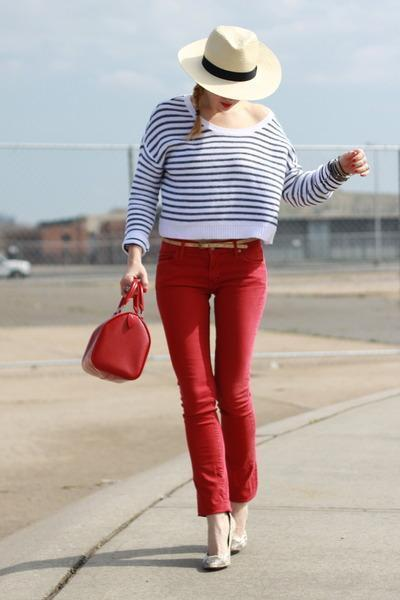bag: (82, 276, 150, 381)
hat: (178, 25, 281, 102)
pants: (156, 238, 275, 515)
shirt: (119, 103, 353, 251)
shoe: (193, 540, 239, 572)
